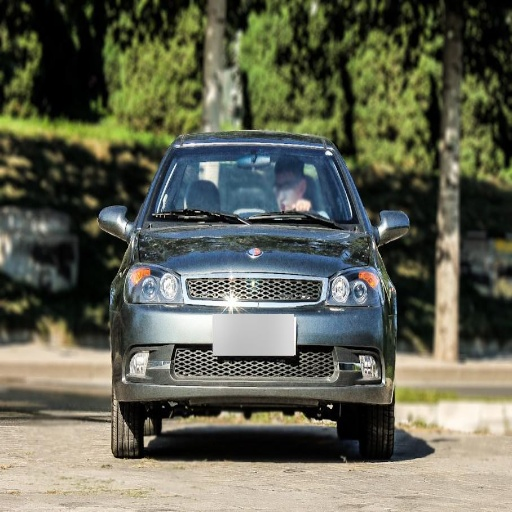front_bumper: (115, 274, 392, 403)
front_right_light: (124, 264, 180, 308)
hood: (135, 223, 370, 278)
left_mirror: (375, 209, 411, 244)
